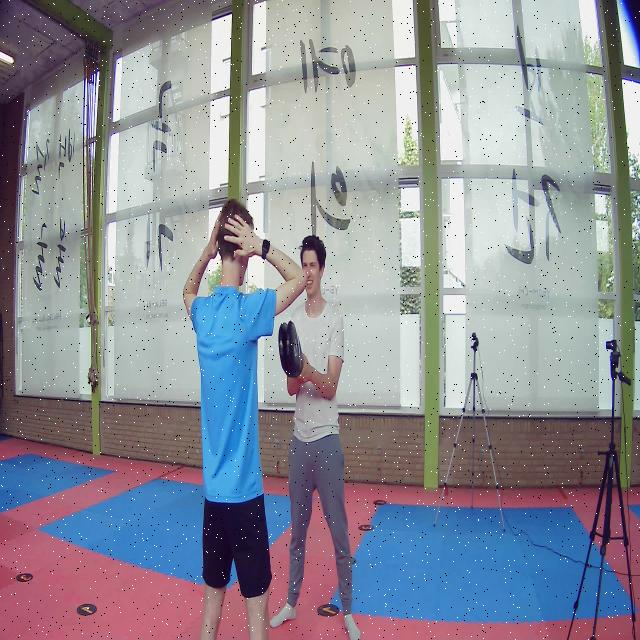paddle: (277, 319, 304, 378)
